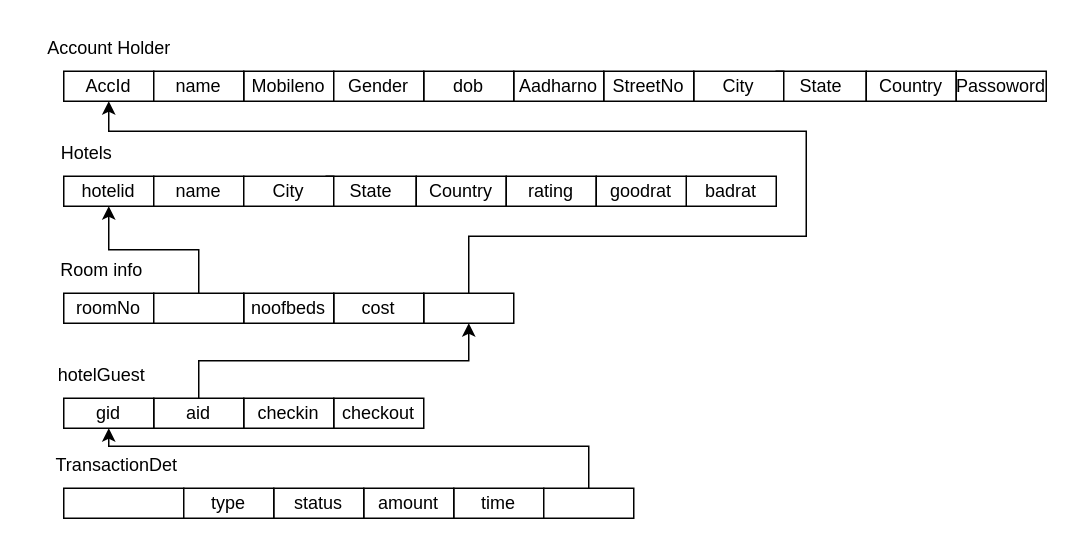
The diagram is 1073 pixels wide and 545 high, and some of its shapes have lost their labels. Each missing label, with the box of its shape:
filledid: (422, 292, 514, 323)
guestid: (542, 487, 634, 518)
hid: (152, 292, 244, 323)
transactionid: (62, 487, 184, 518)
